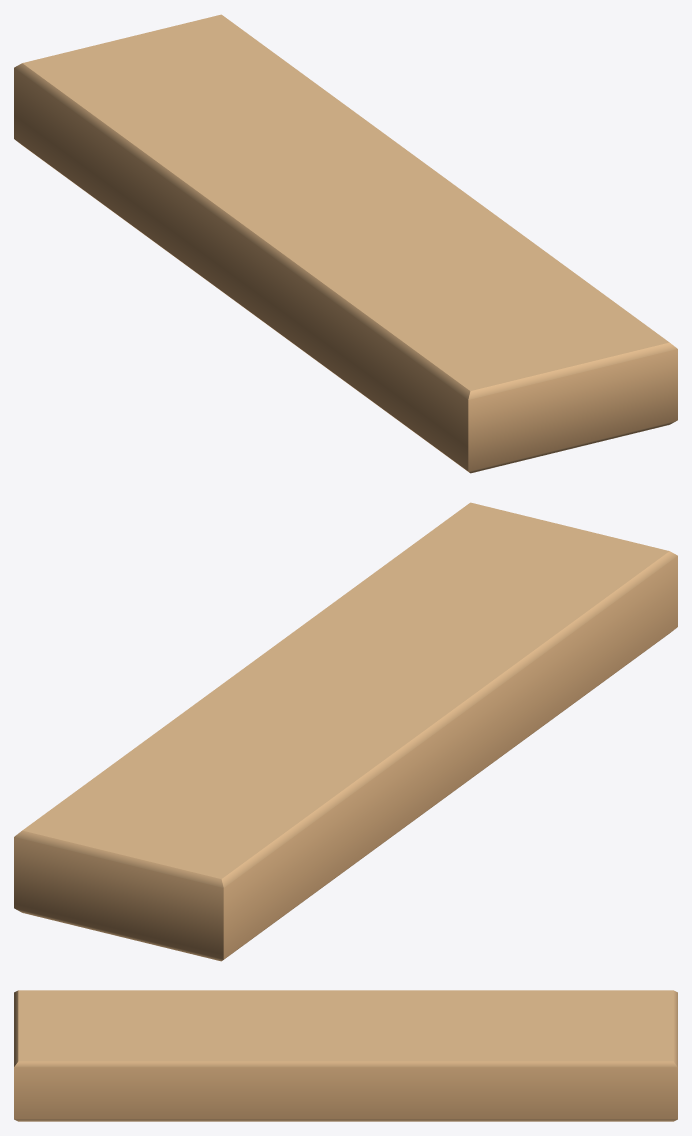
File: prop_plank_a.glb
The picture shows the model from 3 angles, top to bottom: view 1: azimuth 30°, elevation 25°; view 2: azimuth 150°, elevation 25°; view 3: azimuth 270°, elevation 25°; orthographic projection. The views are drawn at different scales.
Visible parts, largest first — view 1: Wood_Plank_A; view 2: Wood_Plank_A; view 3: Wood_Plank_A.
Part boxes in pixels (left/top/right/bottom): Wood_Plank_A: left=14, top=14, right=677, bottom=473; Wood_Plank_A: left=14, top=502, right=677, bottom=961; Wood_Plank_A: left=14, top=990, right=677, bottom=1121.
Bounding box in the file's own units: 0.4 × 0.15 × 1.5.
Materials: 1 (1 with a texture image).
